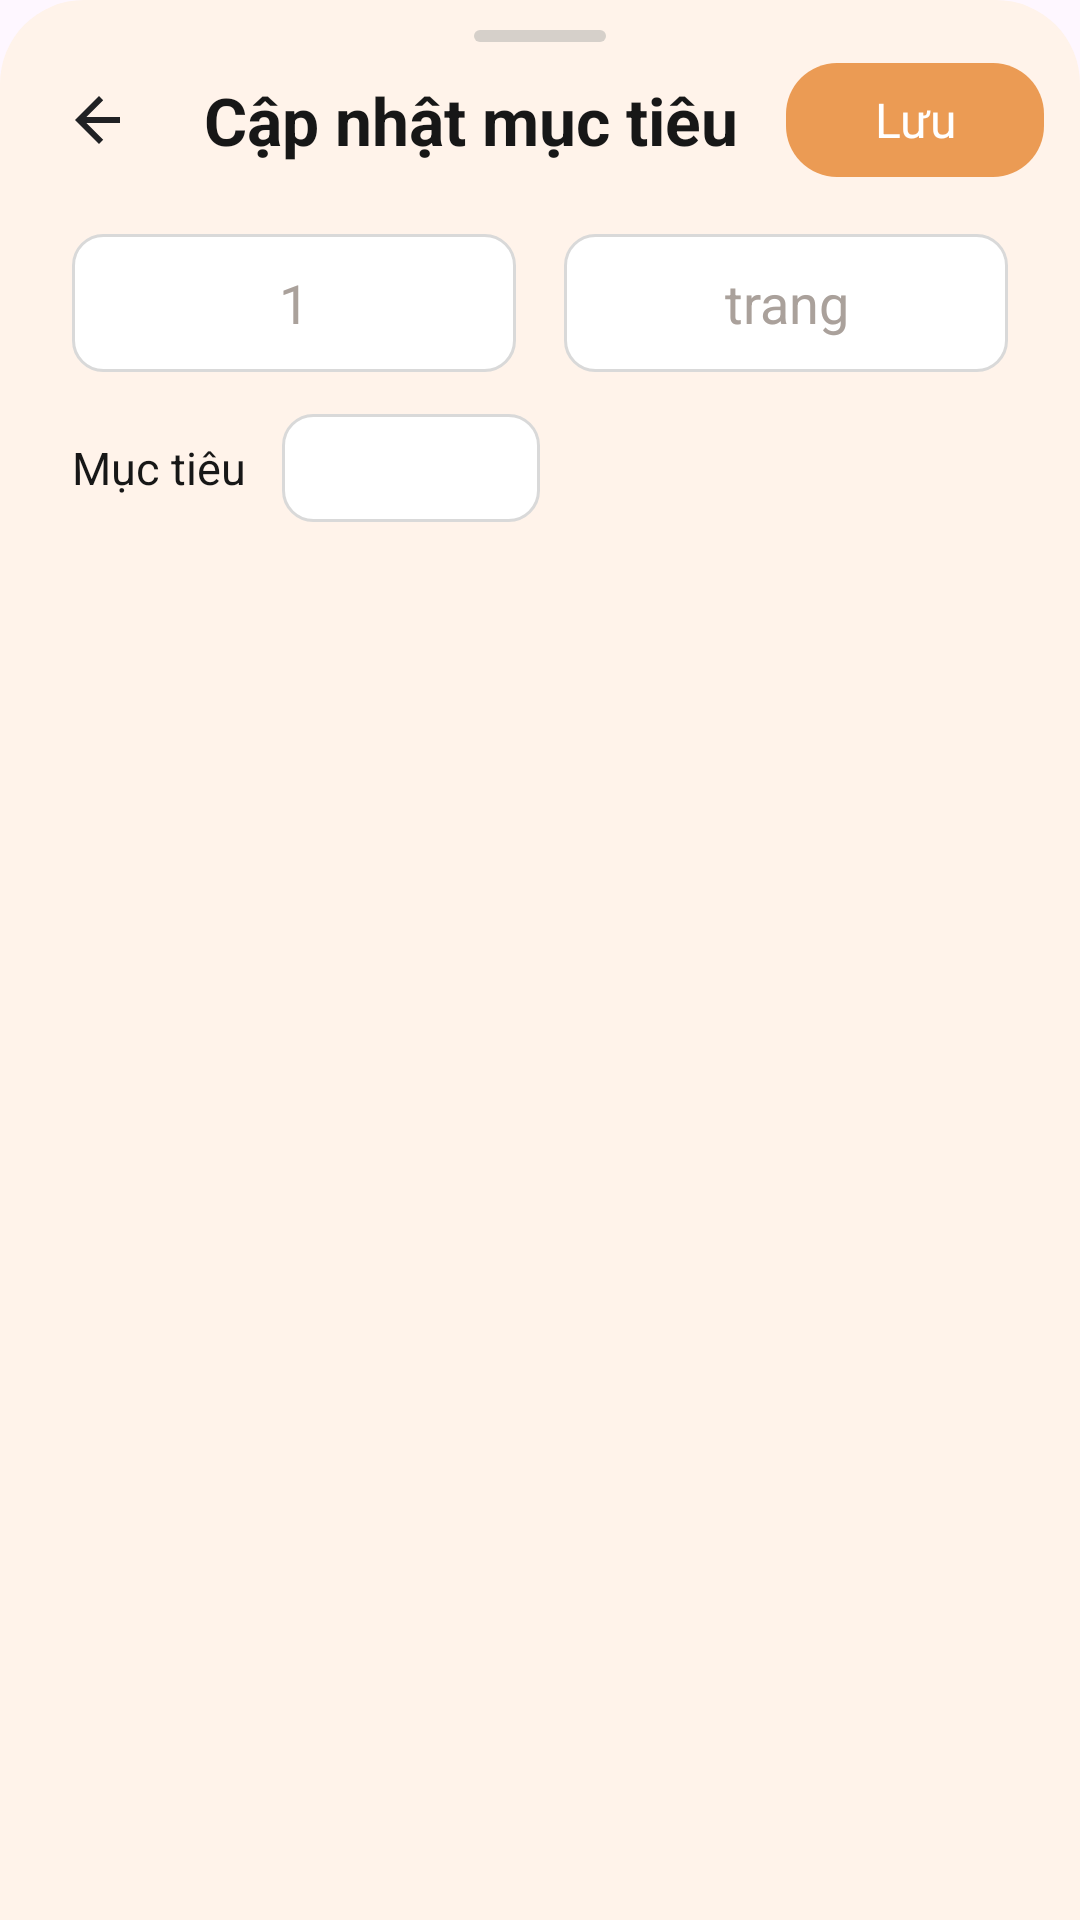

Named icons in this screenshot (1080px×1920px) and their centers, (x,y):
Đóng: (97,120)
